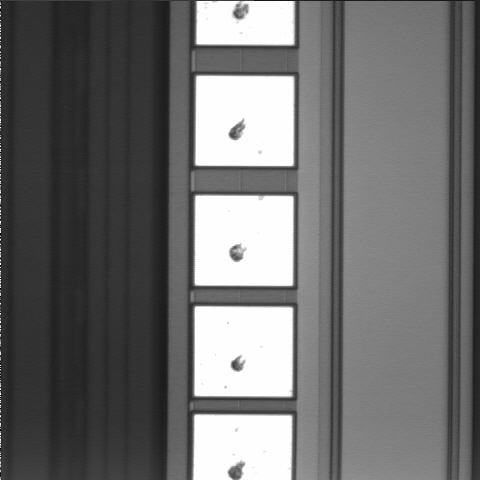pad: (194, 306, 293, 397), (195, 76, 294, 166), (195, 196, 293, 286)
